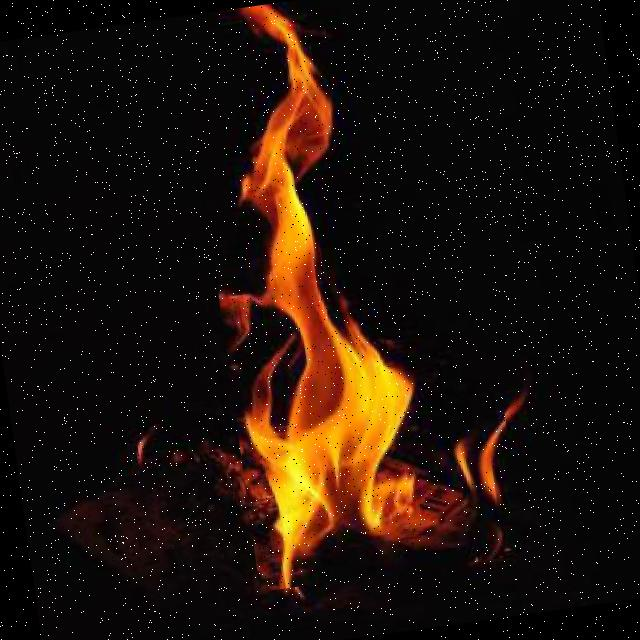fire: (179, 0, 524, 592)
